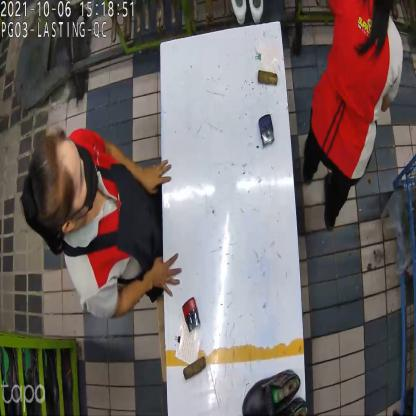shoes: (242, 370, 306, 416)
stamp: (256, 115, 276, 149), (183, 297, 201, 334)
